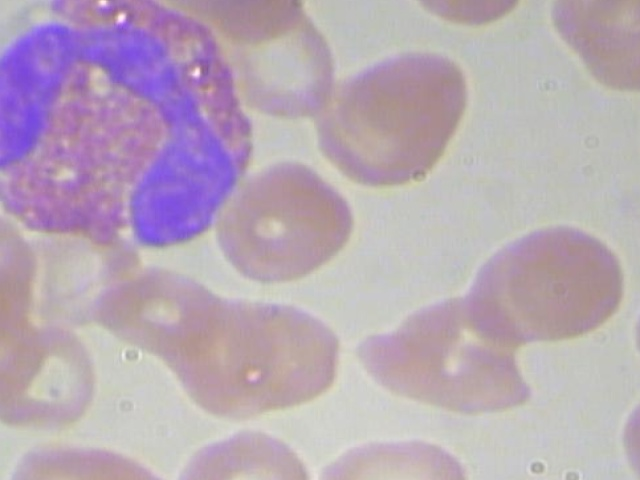RBC: (208, 157, 357, 283), (334, 44, 489, 162), (501, 213, 634, 339), (2, 418, 171, 480), (311, 418, 472, 480), (164, 418, 319, 480), (0, 327, 95, 427), (559, 0, 640, 96)
WBC: (0, 0, 264, 260)
